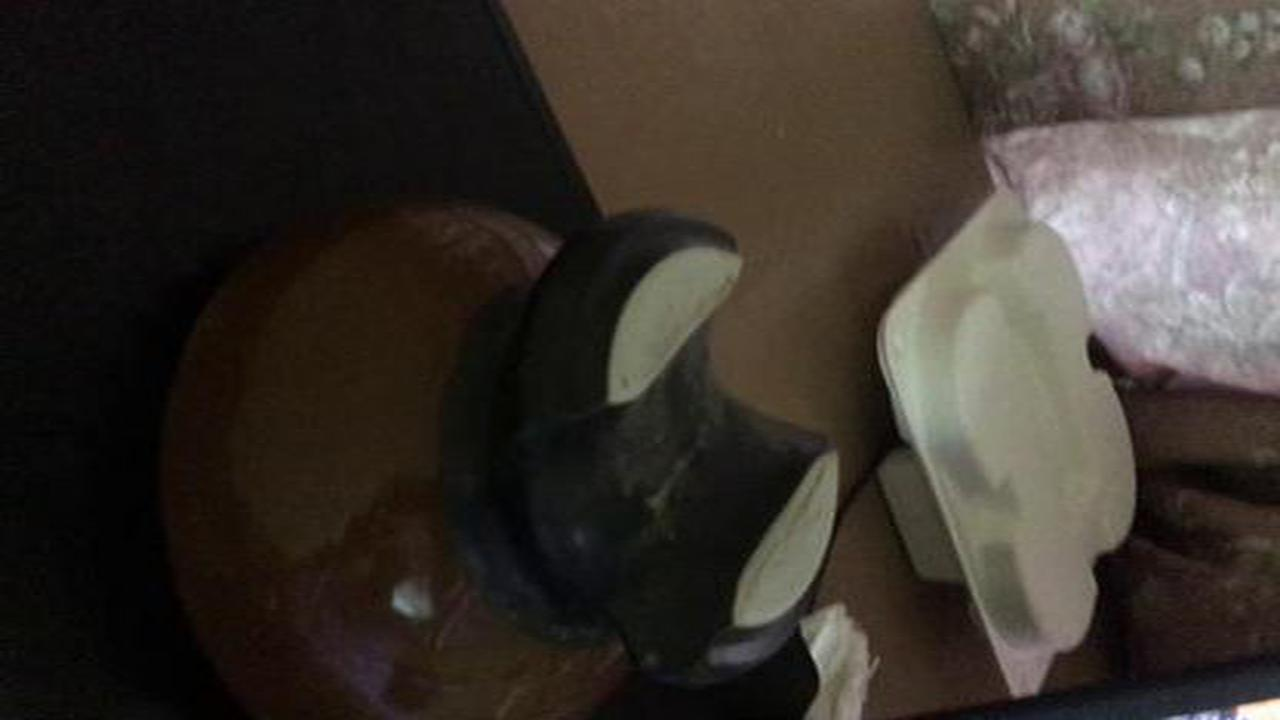insulator_pin: (148, 181, 865, 719)
